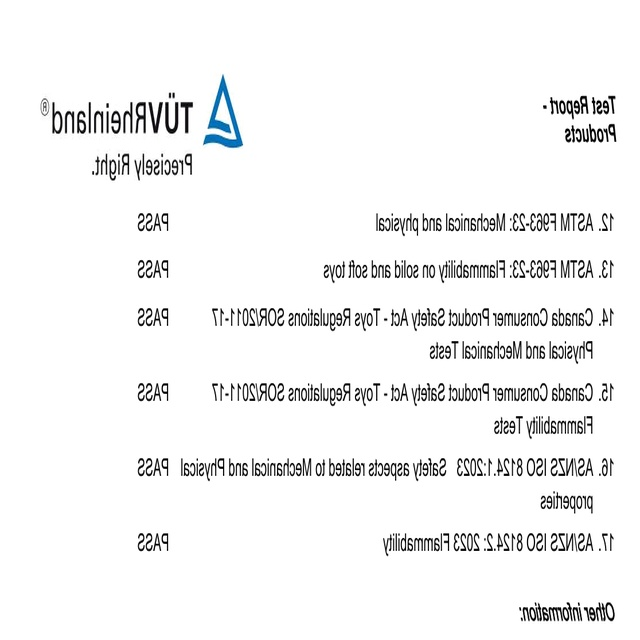tuv_rheinland: (37, 73, 249, 153)
